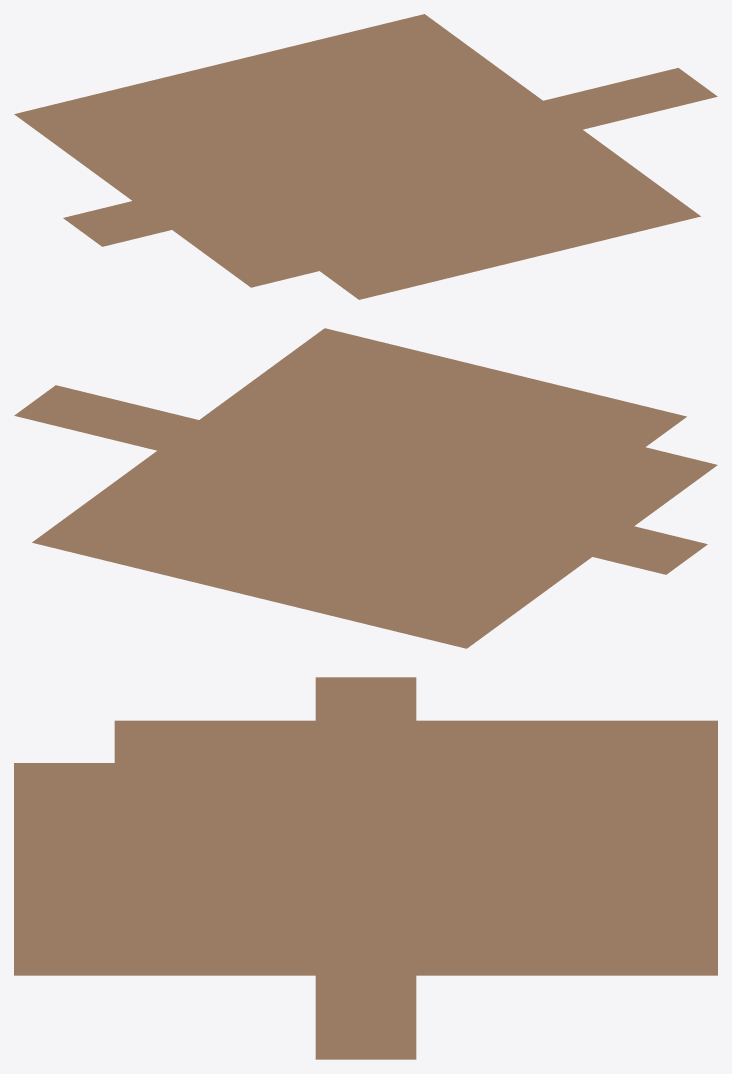
The model's file is N00_Piso_SalaComedor_001.fbx.
3 renders of one model, top to bottom at view 1: azimuth 30°, elevation 25°; view 2: azimuth 150°, elevation 25°; view 3: azimuth 270°, elevation 25°, orthographic. The views are drawn at different scales.
Parts seen in each view (by area): view 1: N00_Piso_SalaComedor_001; view 2: N00_Piso_SalaComedor_001; view 3: N00_Piso_SalaComedor_001.
Boxes of the visible parts, x1,y1,x2,y2 form: N00_Piso_SalaComedor_001: (14,14,717,299); N00_Piso_SalaComedor_001: (14,328,717,648); N00_Piso_SalaComedor_001: (14,677,717,1059).
Size of the model in its own units: 899 by 0.000114 by 700.
1 material, 1 textured.
